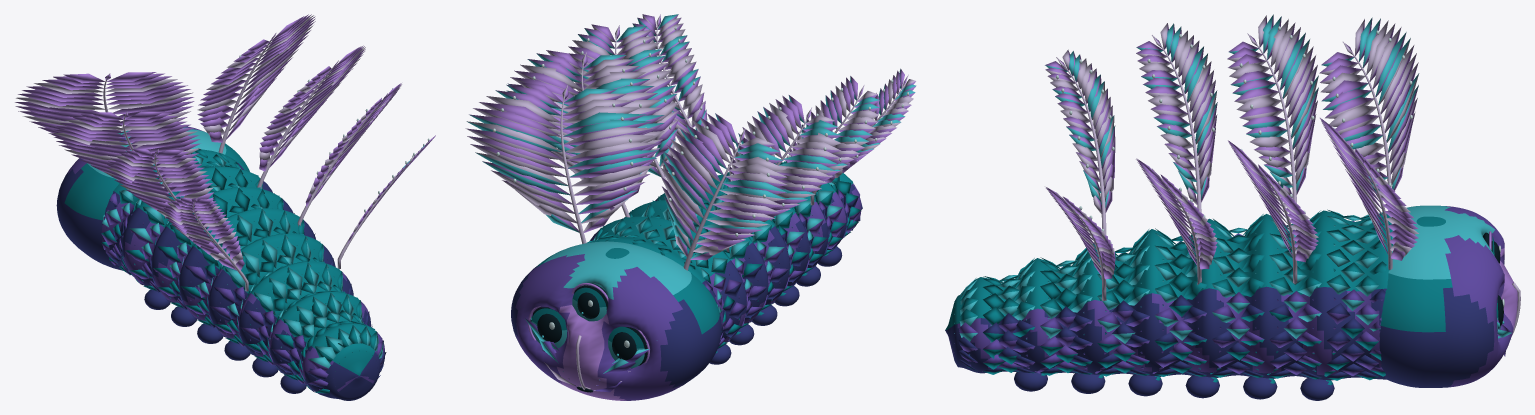
3 views of the same model, side by side, from view 1: azimuth 30°, elevation 25°; view 2: azimuth 150°, elevation 25°; view 3: azimuth 270°, elevation 25° (orthographic). The views are drawn at different scales.
Bounding box in the file's own units: 0.6735 × 0.4913 × 0.9046.
